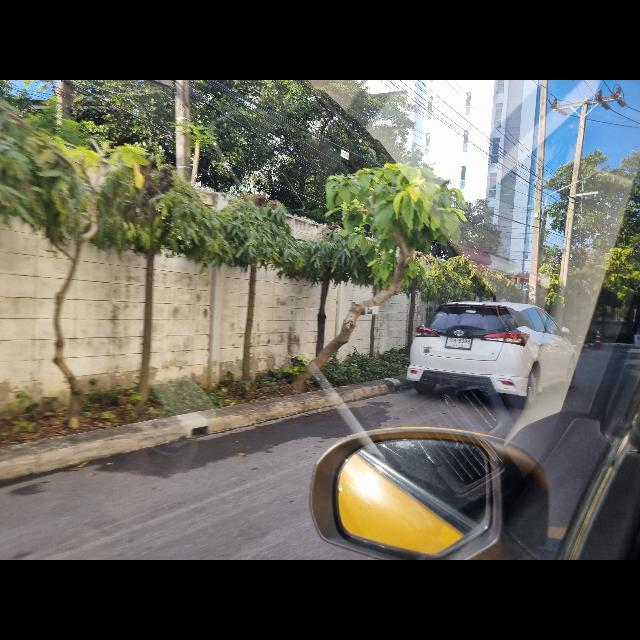licenseplate: (445, 336, 473, 350)
